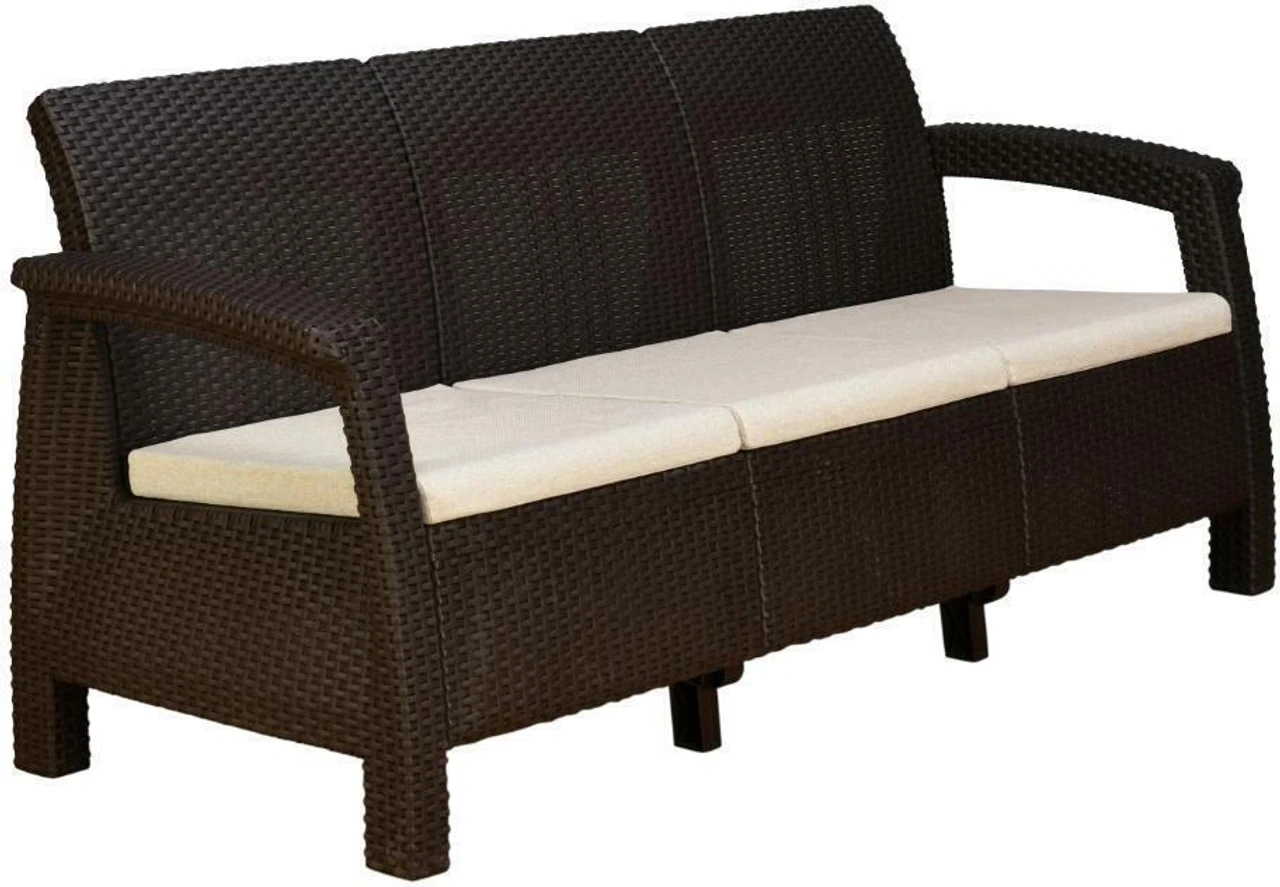3seatersofa: (12, 6, 1274, 878)
backrest: (29, 7, 950, 386), (109, 327, 323, 448)
base: (432, 341, 1244, 744), (41, 501, 373, 755)
leftarmrest: (927, 123, 1239, 211)
leg: (340, 382, 455, 877), (13, 301, 129, 783), (1174, 176, 1279, 598), (669, 664, 742, 751), (940, 584, 1008, 661)
rightarmrest: (13, 251, 393, 408)
seat: (401, 287, 1230, 524), (128, 408, 355, 515)
